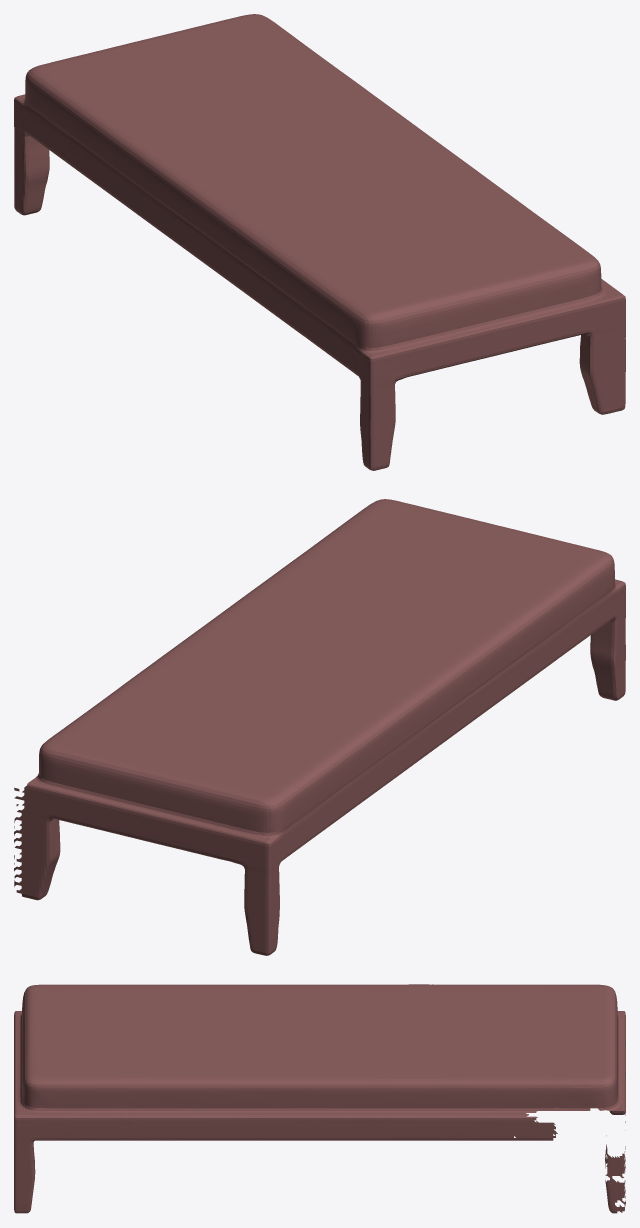
The picture shows the model from 3 angles, top to bottom: view 1: azimuth 30°, elevation 25°; view 2: azimuth 150°, elevation 25°; view 3: azimuth 270°, elevation 25°; orthographic projection. The views are drawn at different scales.
Visible parts, largest first — view 1: world; view 2: world; view 3: world.
Part boxes in pixels (x1=…): world: x1=14, y1=14, x2=625, y2=470; world: x1=14, y1=499, x2=625, y2=955; world: x1=14, y1=984, x2=625, y2=1213.
Bounding box in the file's own units: 0.8135 × 0.4496 × 1.96.
